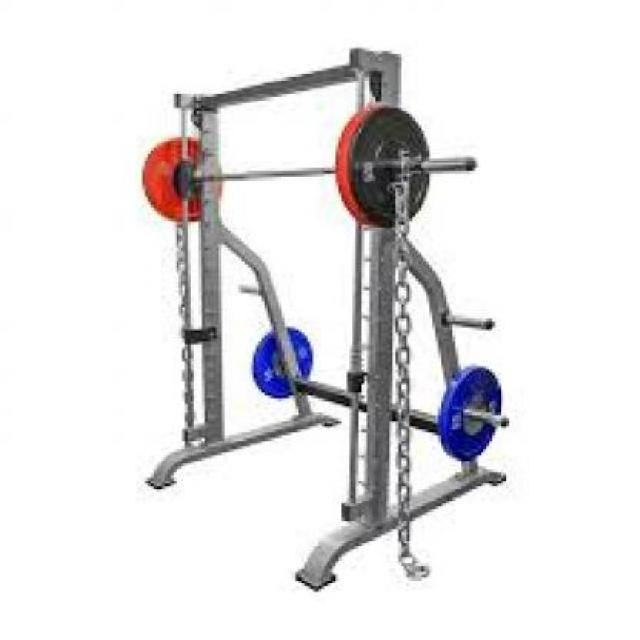smith machine: (143, 46, 509, 592)
